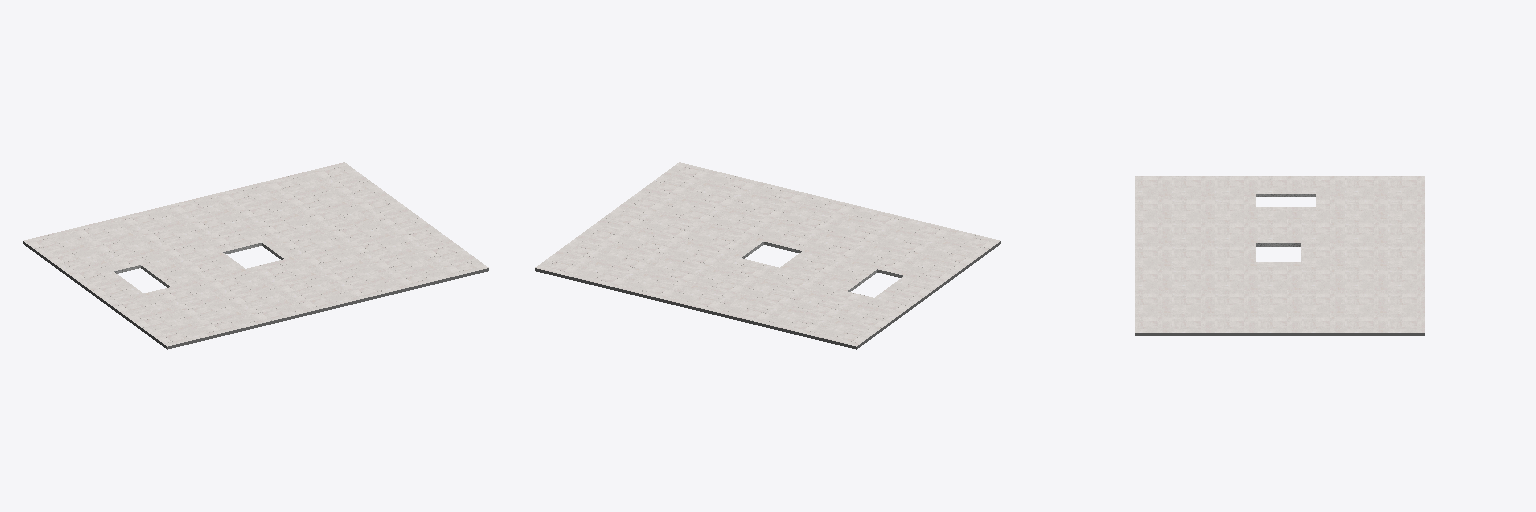
3 renders of one model, left to right at view 1: azimuth 30°, elevation 25°; view 2: azimuth 150°, elevation 25°; view 3: azimuth 270°, elevation 25°, orthographic.
Parts seen in each view (by area): view 1: pasted__polySurface66 pasted__polySurface27 group56; view 2: pasted__polySurface66 pasted__polySurface27 group56; view 3: pasted__polySurface66 pasted__polySurface27 group56.
Part boxes in pixels (bbox=[...]): pasted__polySurface66 pasted__polySurface27 group56: bbox=[23, 162, 488, 349]; pasted__polySurface66 pasted__polySurface27 group56: bbox=[535, 162, 1000, 349]; pasted__polySurface66 pasted__polySurface27 group56: bbox=[1135, 176, 1424, 335].
Bounding box in the file's own units: 67.55 × 0.6457 × 52.53.
3 materials, 2 textured.